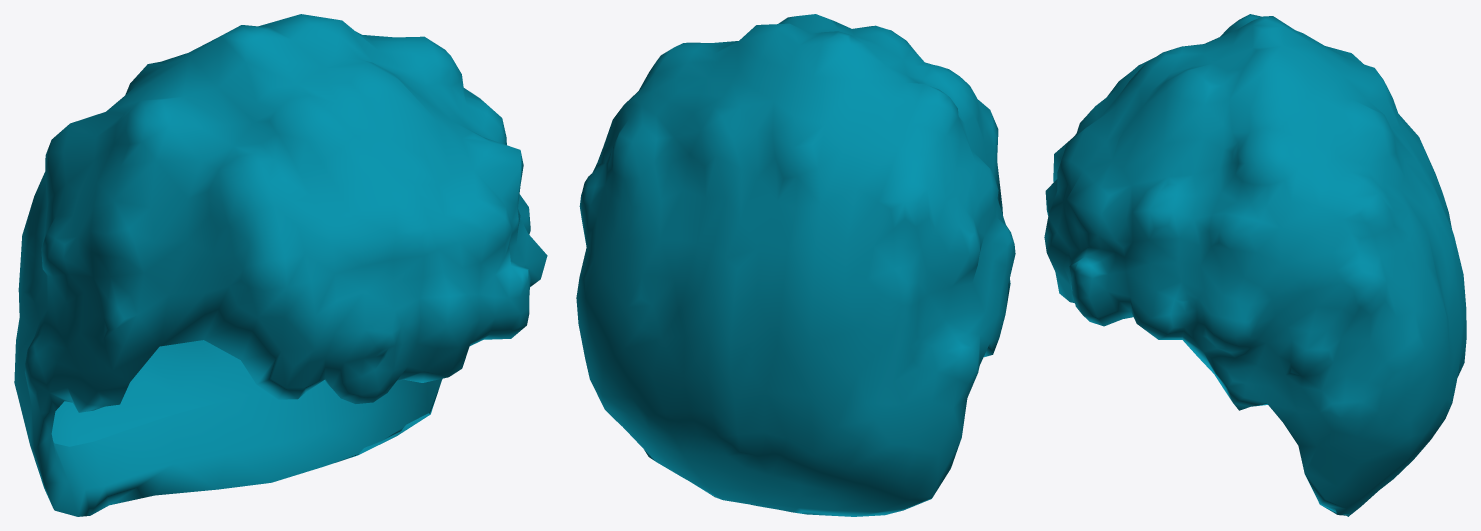
3 renders of one model, left to right at view 1: azimuth 30°, elevation 25°; view 2: azimuth 150°, elevation 25°; view 3: azimuth 270°, elevation 25°, orthographic. The views are drawn at different scales.
Visible parts, largest first — view 1: pasted__Hair; view 2: pasted__Hair; view 3: pasted__Hair.
Boxes of the visible parts, box(x1,y1,x2,y2) form: pasted__Hair: box(14, 14, 547, 516); pasted__Hair: box(576, 14, 1015, 516); pasted__Hair: box(1044, 14, 1466, 516).
Bounding box in the file's own units: 0.9907 × 1.08 × 0.937.
